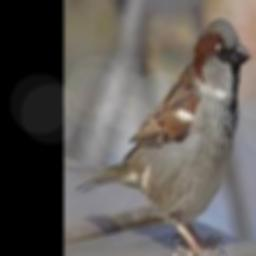Sparrow: (76, 17, 252, 256)
